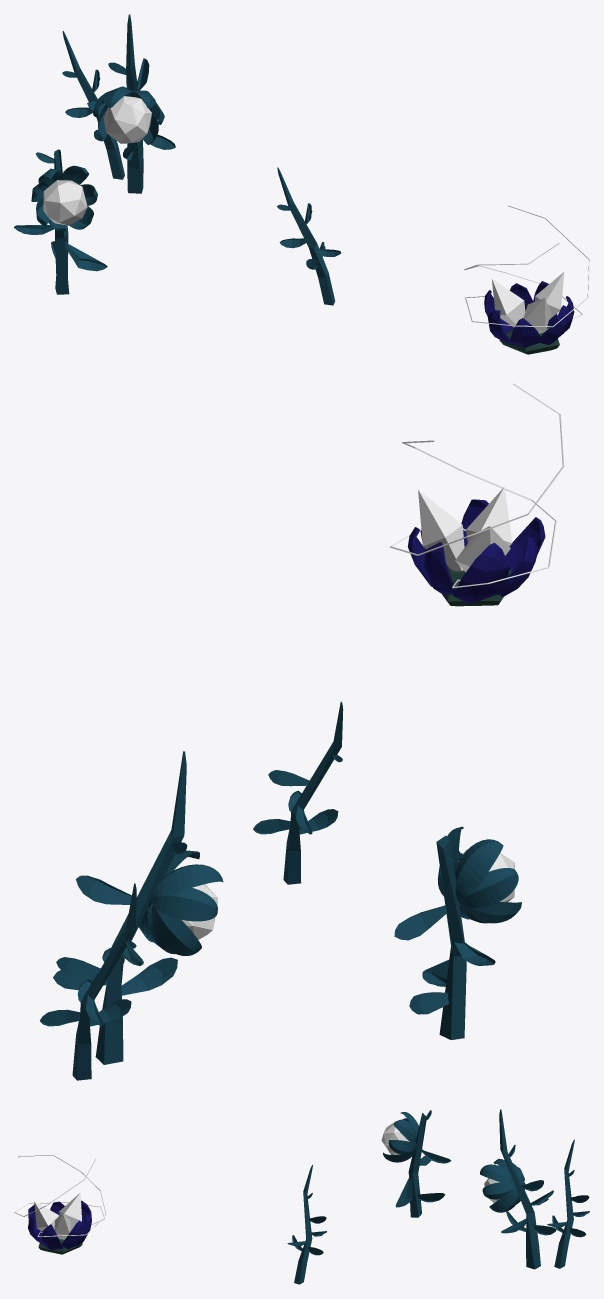
File: plantinhas.fbx
3 views of the same model, one above another, from view 1: azimuth 30°, elevation 25°; view 2: azimuth 150°, elevation 25°; view 3: azimuth 270°, elevation 25° (orthographic). The views are drawn at different scales.
Parts seen in each view (by area): view 1: planta 1, flor.002, base.001, flor.003, flor, flor.032, flor.039, flor.018, vinha (?), flor.016, base 2; view 2: planta 1, flor.002, flor.032, base.001, flor.018, flor.039, flor.023, flor.009, flor.010, flor.024, vinha (?), flor.022 (+3 smaller); view 3: planta 1, flor.032, flor.002, base.001, flor.039, flor.018, vinha (?), flor.020, flor.021, flor.019, flor, flor.006 (+2 smaller).
Part boxes in pixels (box(x1,y1,x2,y2)): planta 1: box(484, 281, 574, 348); flor.002: box(492, 272, 564, 333); base.001: box(277, 167, 341, 305); flor.003: box(103, 96, 151, 143); flor: box(43, 180, 87, 225); flor.032: box(126, 14, 143, 193); flor.039: box(62, 31, 124, 179); flor.018: box(54, 149, 69, 294); vinha (?): box(464, 205, 589, 330); flor.016: box(62, 241, 107, 271); base 2: box(499, 325, 559, 354); planta 1: box(407, 499, 545, 603); flor.002: box(418, 487, 512, 571); flor.032: box(95, 751, 186, 1064); base.001: box(253, 701, 343, 884); flor.018: box(436, 835, 466, 1039); flor.039: box(72, 883, 136, 1080); flor.023: box(152, 888, 217, 921); flor.009: box(455, 839, 503, 906); flor.010: box(459, 868, 518, 907); flor.024: box(151, 905, 201, 955); vinha (?): box(390, 383, 564, 588); flor.022: box(148, 864, 223, 907); planta 1: box(28, 1200, 91, 1249); flor.032: box(499, 1109, 540, 1269); flor.002: box(34, 1192, 81, 1239); base.001: box(287, 1164, 326, 1284); flor.039: box(554, 1139, 574, 1268); flor.018: box(408, 1113, 426, 1217); vinha (?): box(14, 1155, 106, 1236); flor.020: box(482, 1182, 515, 1199); flor.021: box(489, 1187, 519, 1212); flor.019: box(480, 1164, 513, 1182); flor: box(381, 1121, 409, 1154); flor.006: box(394, 1119, 415, 1142).
Bounding box in the file's own units: 5552 × 3464 × 11912.
